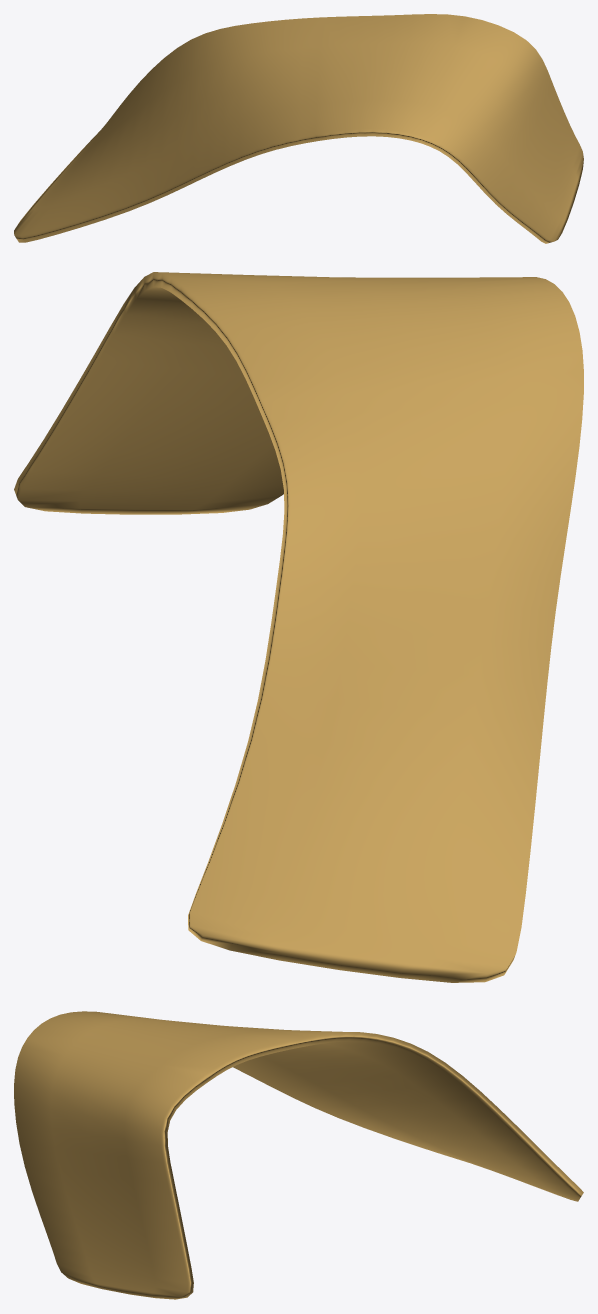
3 views of the same model, one above another, from view 1: azimuth 30°, elevation 25°; view 2: azimuth 150°, elevation 25°; view 3: azimuth 270°, elevation 25° (orthographic). The views are drawn at different scales.
Visible parts, largest first — view 1: 右侧腘腓韧带; view 2: 右侧腘腓韧带; view 3: 右侧腘腓韧带.
Part boxes in pixels (x1,y1,x2,y2): 右侧腘腓韧带: (14,14,583,243); 右侧腘腓韧带: (14,272,583,982); 右侧腘腓韧带: (14,1011,583,1299).
Bounding box in the file's own units: 0.0404 × 0.0218 × 0.0442.
